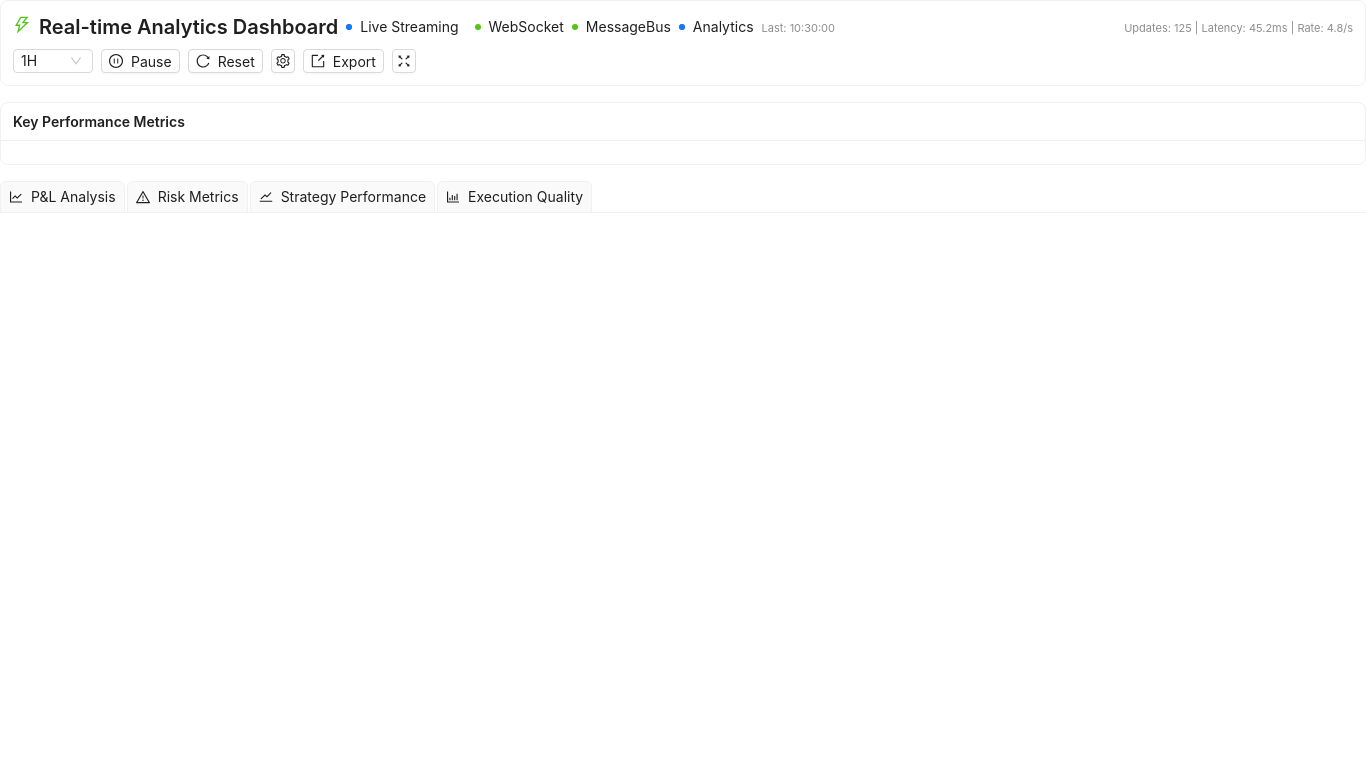
Test: RealTimeAnalyticsDashboard › Settings Panel › opens settings drawer
The width and height of the screenshot is (1366, 768).
Click the 1st button named "setting" at (283, 61), box x1=271 y1=49 x2=295 y2=73
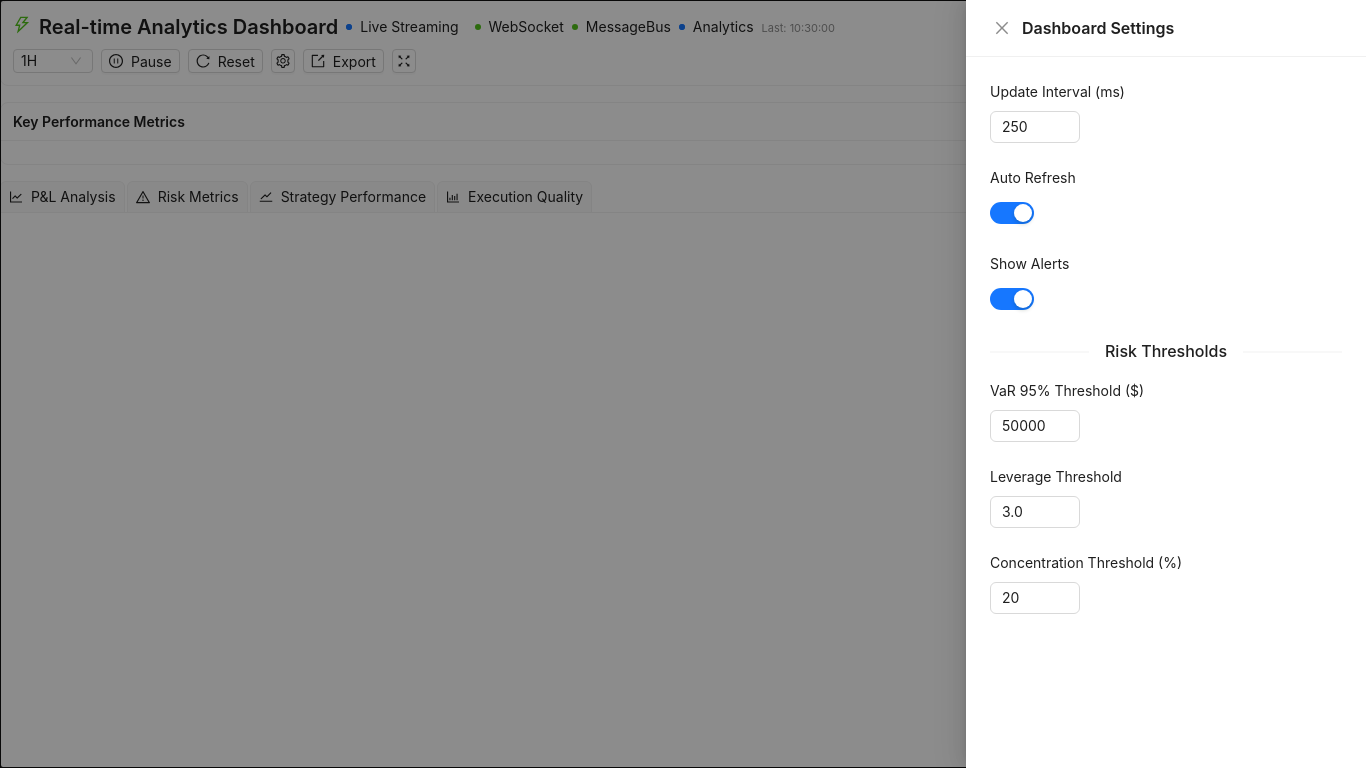
Result: the text "Dashboard Settings" is shown at x1=1022 y1=18 x2=1174 y2=38
